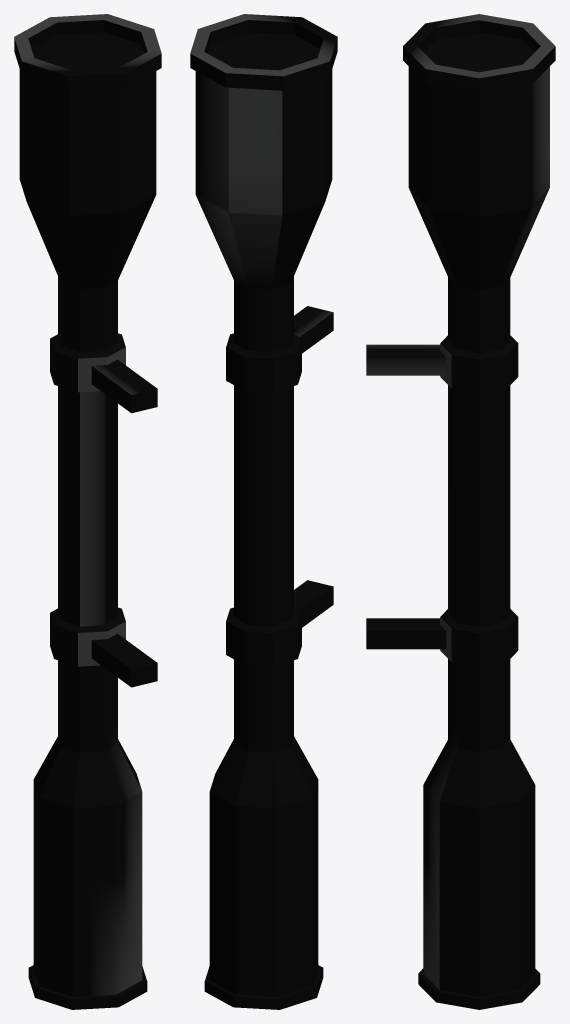
Rendered from Optic_Hunting3x9.fbx.
3 renders of one model, left to right at view 1: azimuth 30°, elevation 25°; view 2: azimuth 150°, elevation 25°; view 3: azimuth 270°, elevation 25°, orthographic.
Visible parts, largest first — view 1: asset_Optic_Hunting3x9.001; view 2: asset_Optic_Hunting3x9.001; view 3: asset_Optic_Hunting3x9.001.
Part boxes in pixels (box(x1,y1,x2,y2)): asset_Optic_Hunting3x9.001: box(14, 14, 161, 1009); asset_Optic_Hunting3x9.001: box(190, 14, 337, 1009); asset_Optic_Hunting3x9.001: box(366, 14, 555, 1009).
Bounding box in the file's own units: 0.0274 × 0.186 × 0.034.
